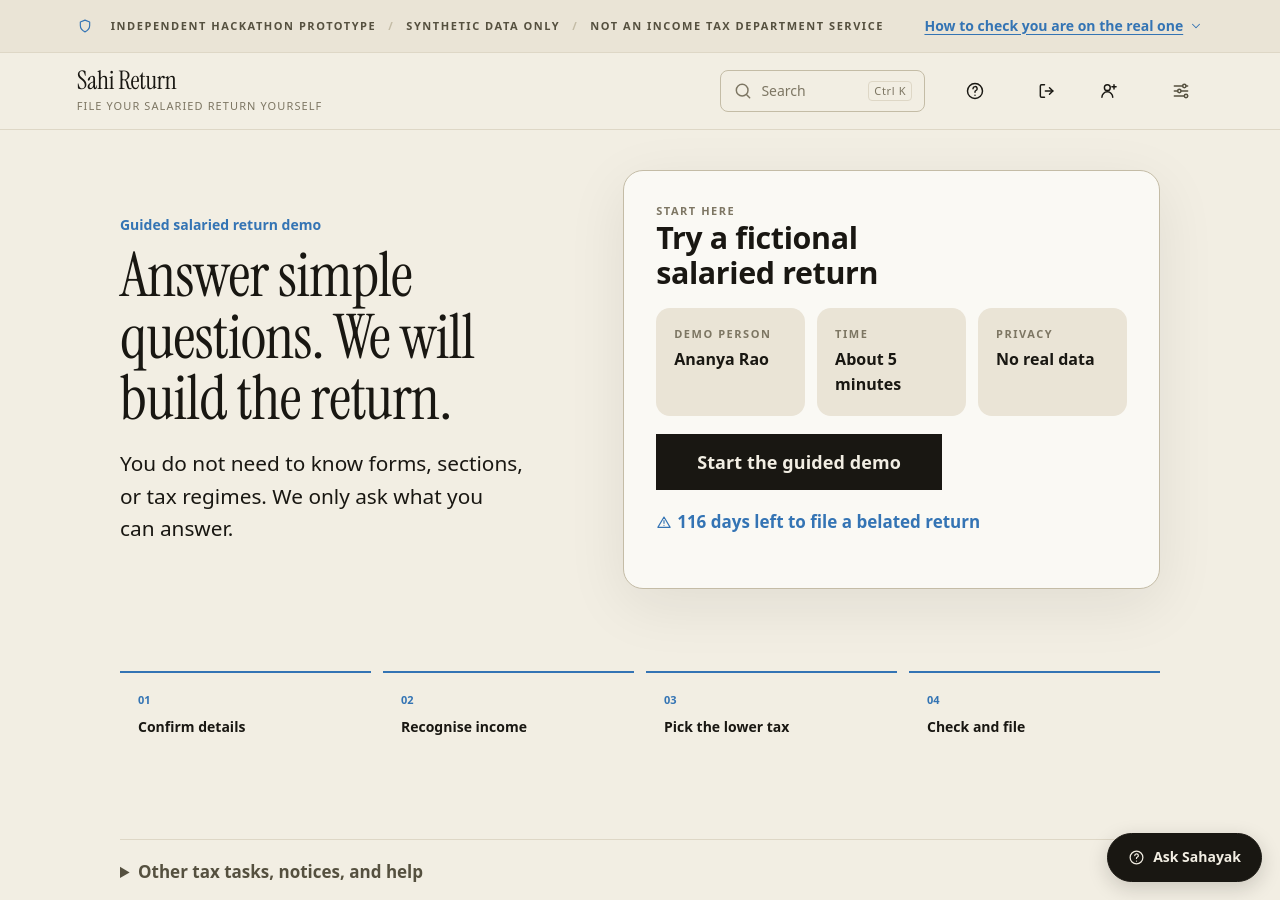
Test case: signing in › says what it recognised instead of leaving you to guess
The width and height of the screenshot is (1280, 900).
Click the button named "Login" at (1047, 91), box [1025,69,1069,113]
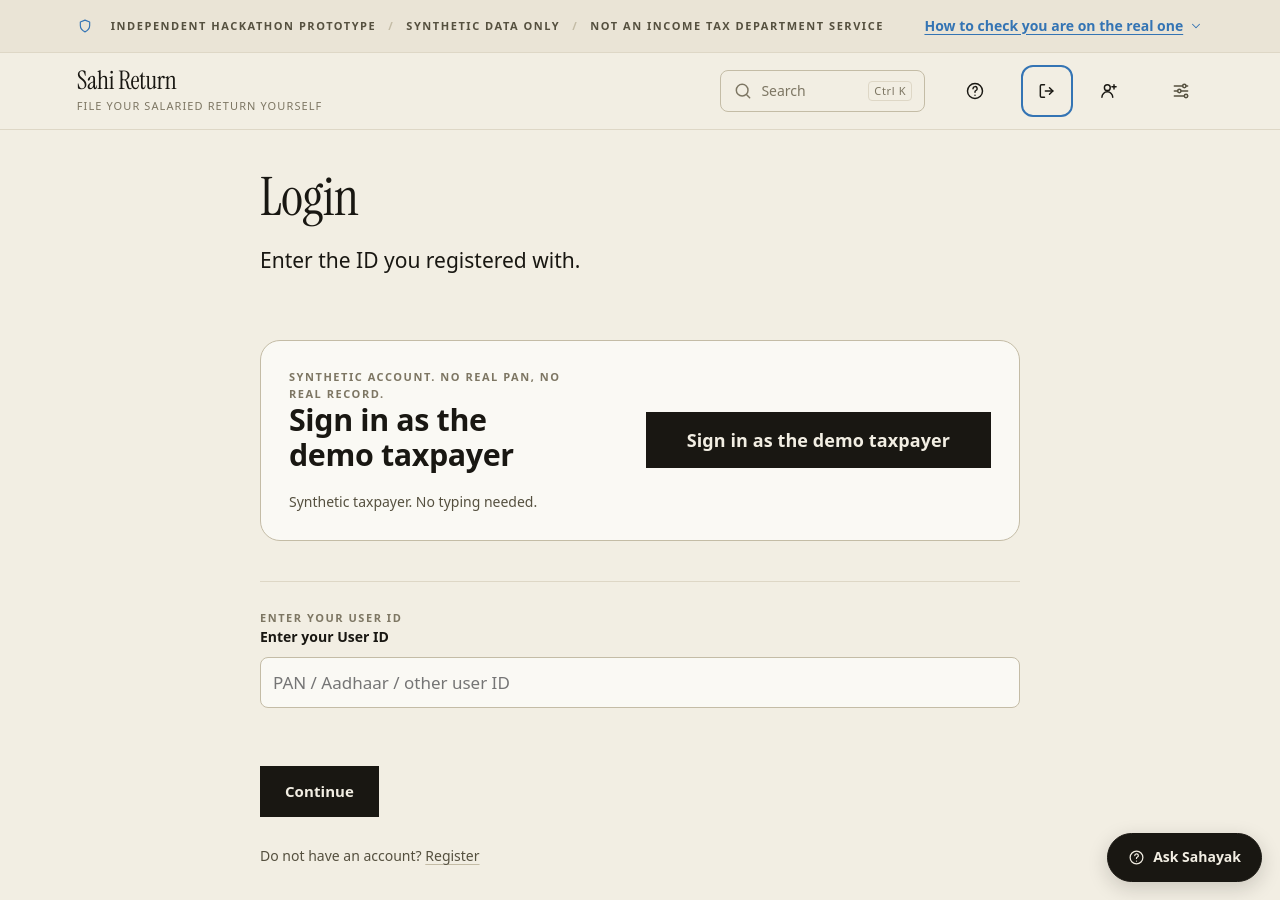
Type "DEMOA1234X" into the field labelled "Enter your User ID" at (640, 683), box [260,657,1020,708]
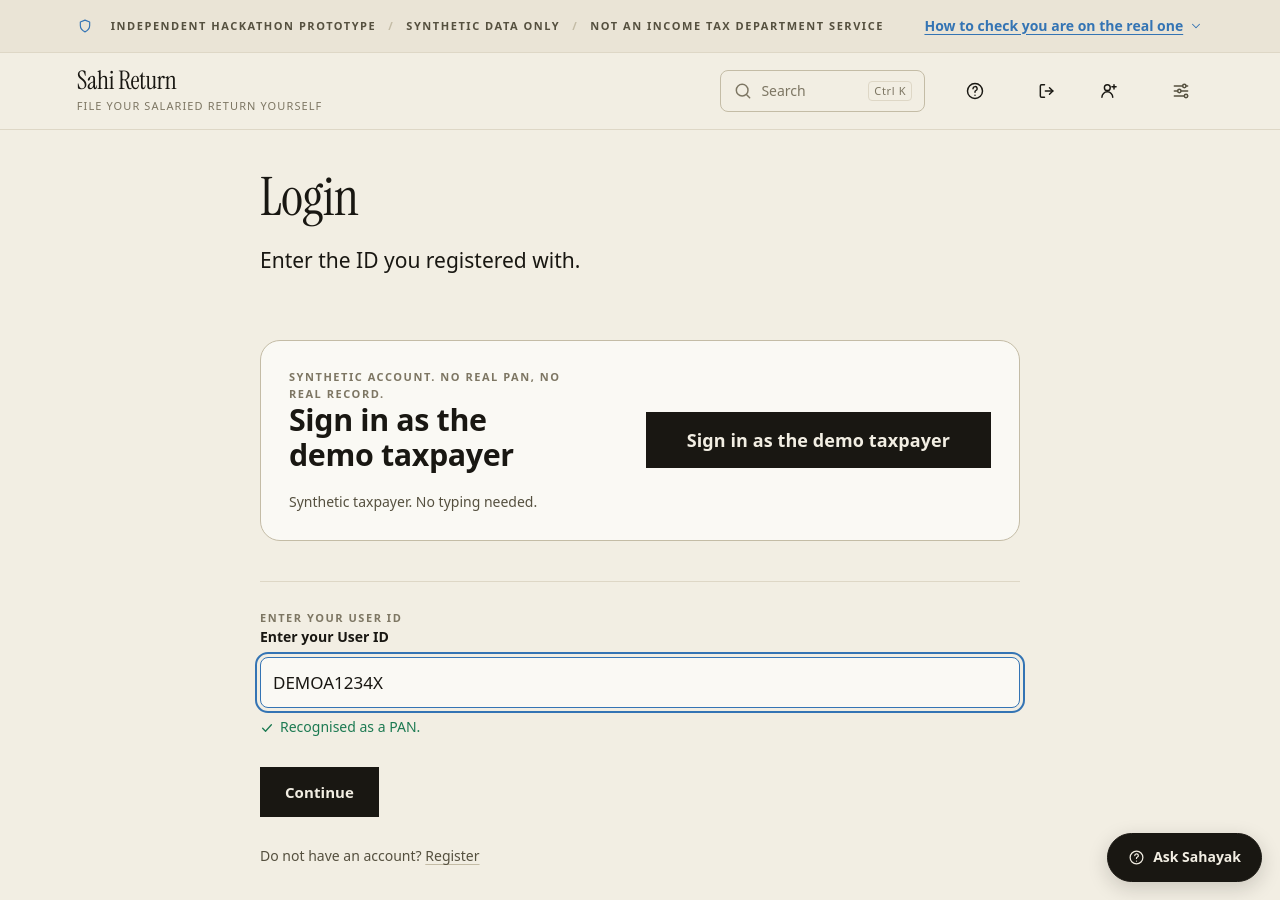
Expected: the text "Recognised as a PAN." is shown, [260,717,420,736]
Replace the text in the field labelled "Enter your User ID" with "999912345678" at (640, 683), box [260,657,1020,708]
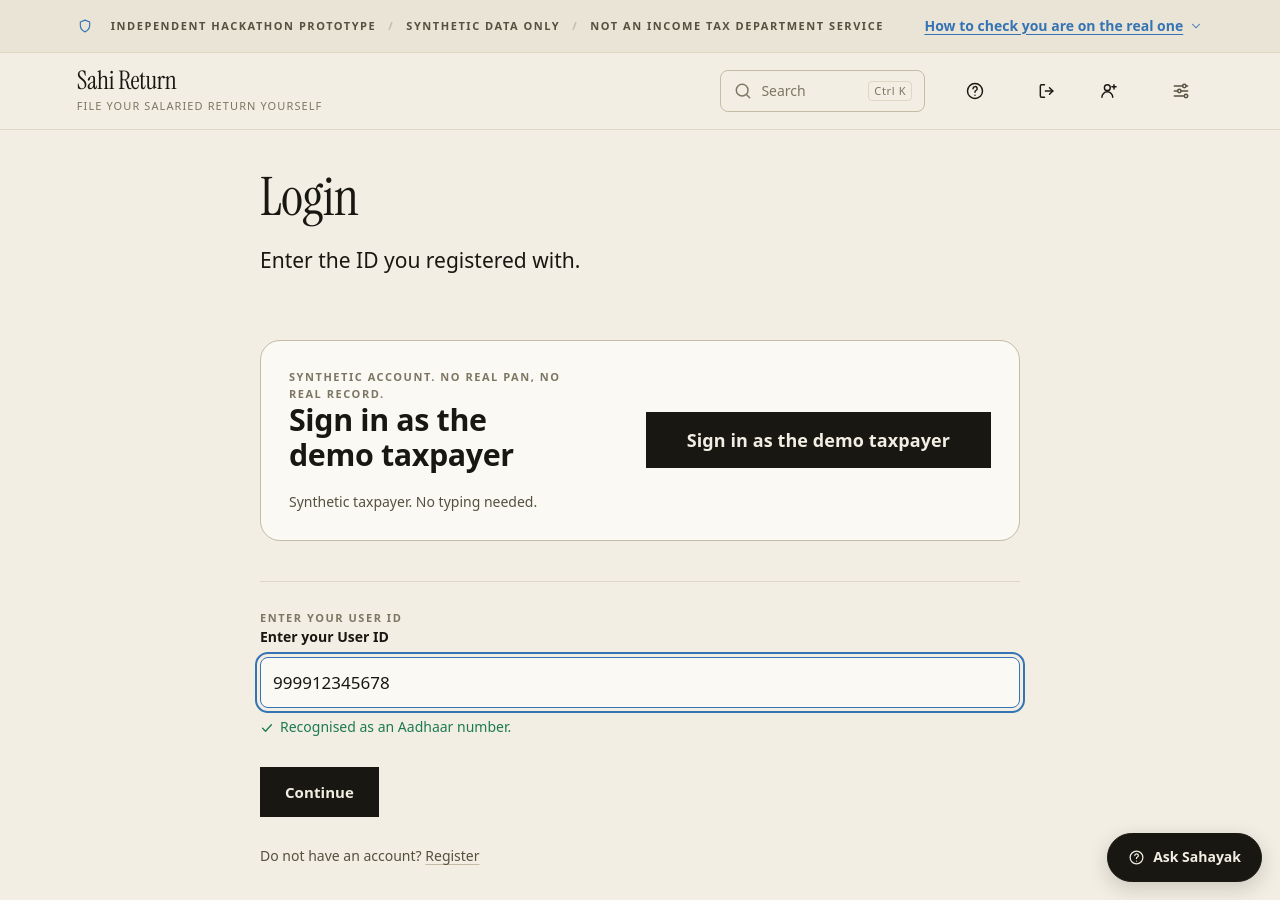
Expected: the text "Recognised as an Aadhaar number." is shown, [260,717,511,736]
Replace the text in the field labelled "Enter your User ID" with "ARCA123456" at (640, 683), box [260,657,1020,708]
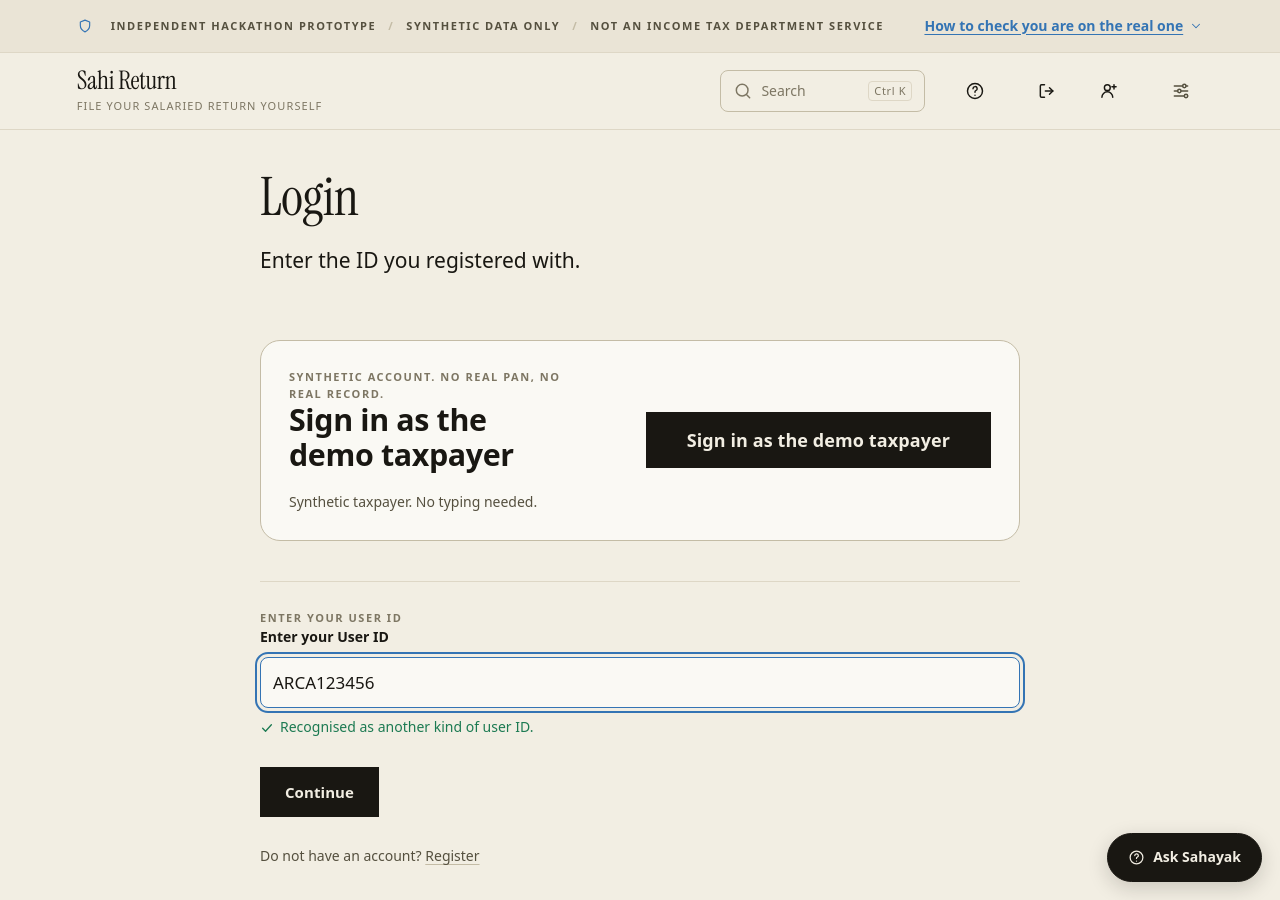
Expected: the text "Recognised as another kind of user ID." is shown, [260,717,534,736]
Replace the text in the field labelled "Enter your User ID" with "DEM" at (640, 683), box [260,657,1020,708]
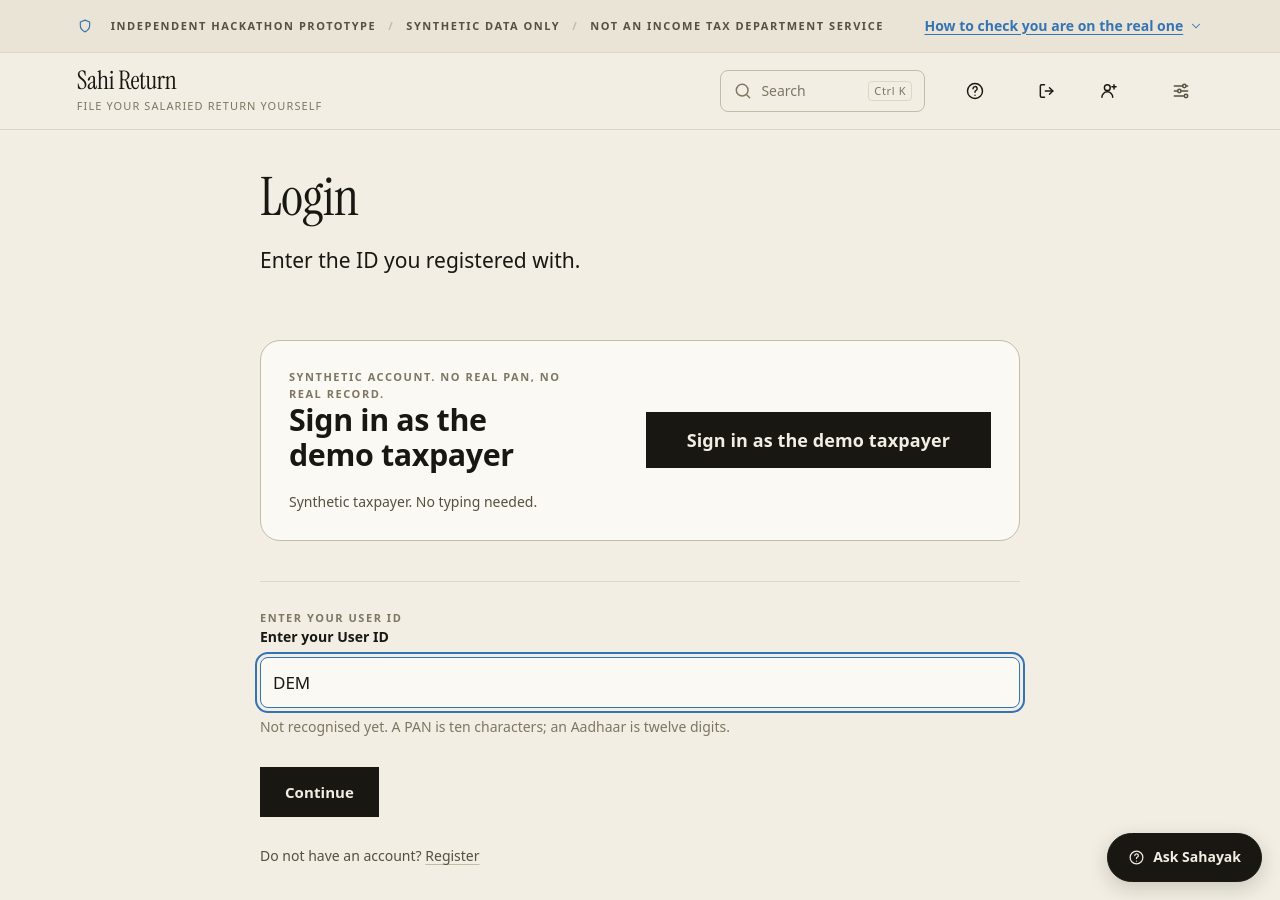
Expected: the text "Not recognised yet. A PAN is ten characters; an Aadhaar is twelve digits." is shown, [260,716,756,739]
